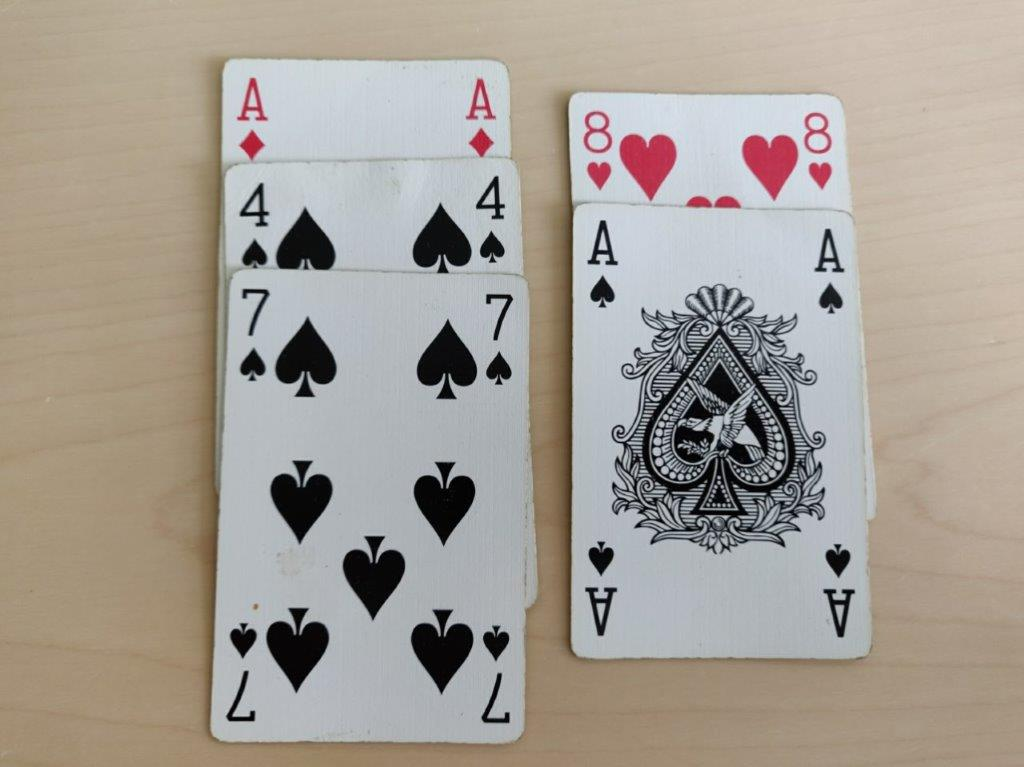4S: (472, 171, 511, 265), (236, 178, 273, 270)
7S: (235, 280, 273, 383), (481, 290, 518, 389)
8H: (579, 104, 618, 192), (800, 106, 836, 194)
AD: (232, 72, 272, 166), (461, 74, 502, 162)
AS: (810, 225, 850, 317), (584, 214, 621, 312)
